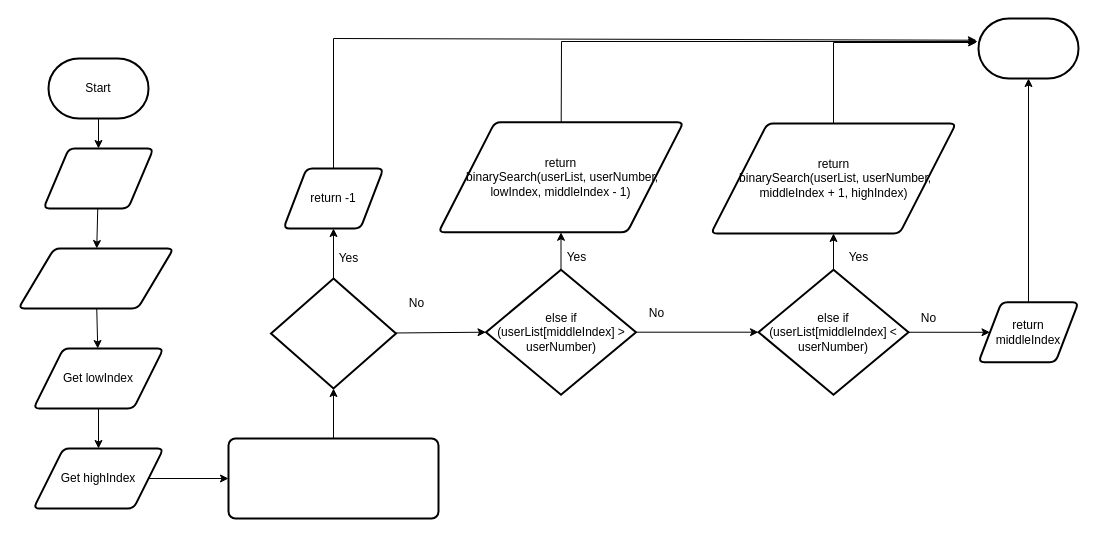
Some shapes in this 1096 by 536 pixel diagram are drawn without their labels. Each missing label, with the box of its shape:
const middleIndex = Math.floor((lowIndex + highIndex) / 2): (227, 437, 439, 519)
Get userList: (42, 147, 154, 209)
Get userNumber: (17, 247, 174, 309)
if (lowIndex > highIndex): (270, 277, 396, 389)
Stop: (977, 17, 1079, 79)
